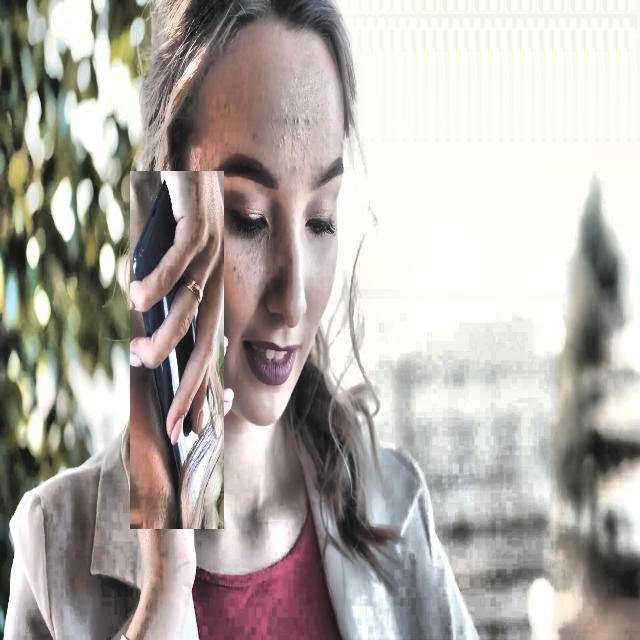Phone: (129, 170, 224, 529)
